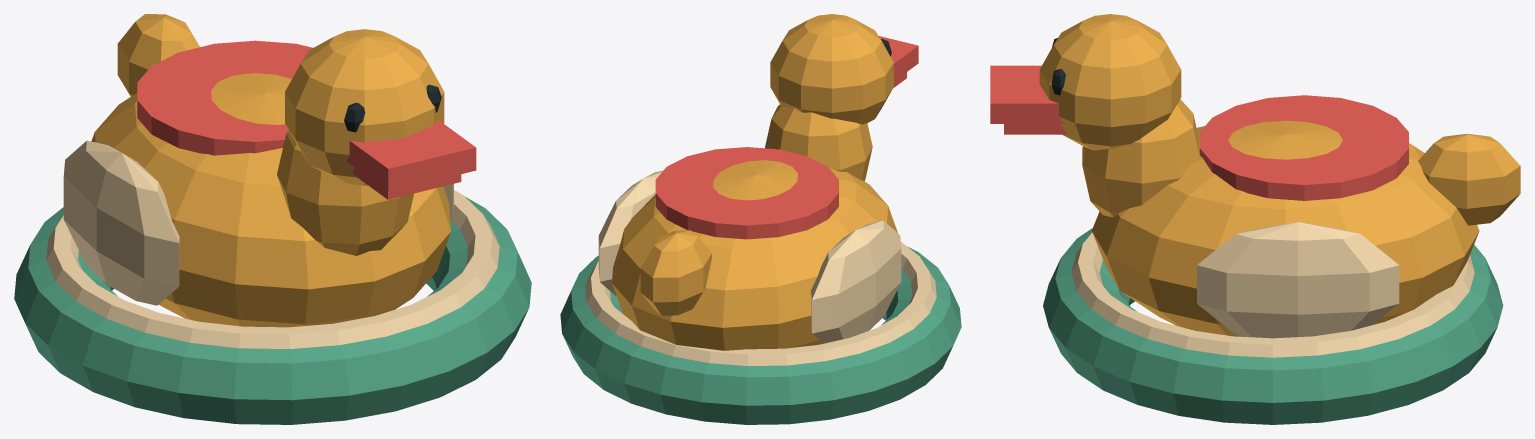
File: ParkParkDuck.obj
The picture shows the model from 3 angles, left to right: view 1: azimuth 30°, elevation 25°; view 2: azimuth 150°, elevation 25°; view 3: azimuth 270°, elevation 25°; orthographic projection. The views are drawn at different scales.
Parts seen in each view (by area): view 1: ParkParkDuck; view 2: ParkParkDuck; view 3: ParkParkDuck.
Part boxes in pixels (bbox=[...]): ParkParkDuck: bbox=[14, 14, 531, 424]; ParkParkDuck: bbox=[560, 14, 961, 424]; ParkParkDuck: bbox=[990, 14, 1520, 424].
Bounding box in the file's own units: 3.68 × 2.85 × 4.24.
